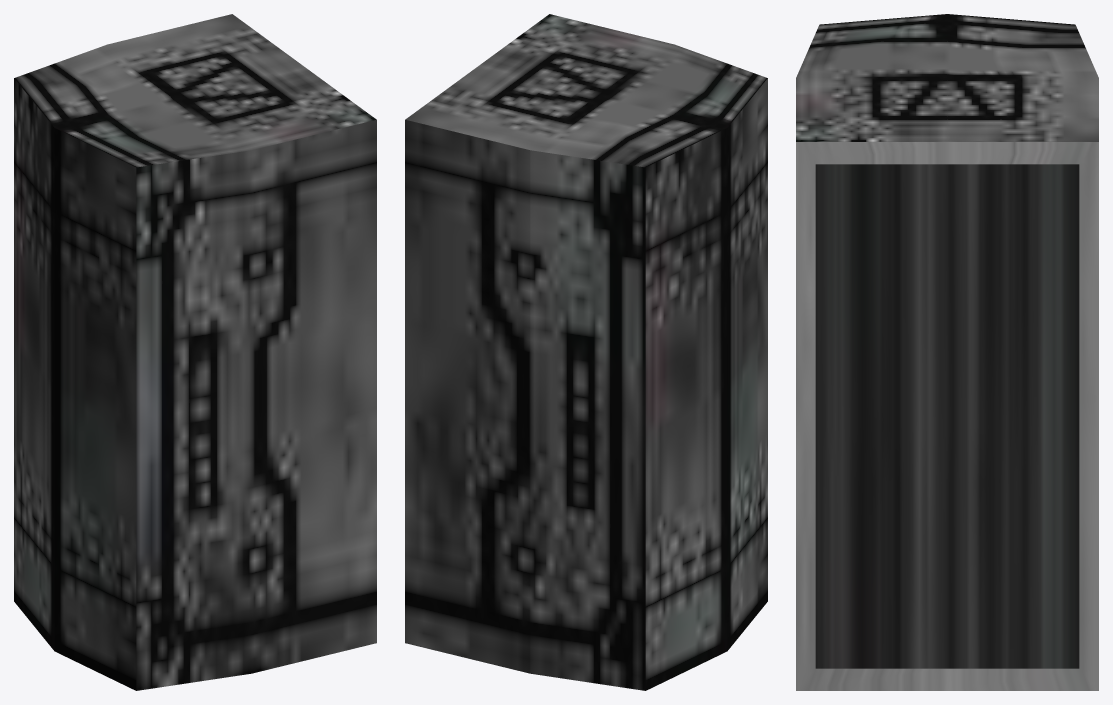
File: Armor.fbx
3 views of the same model, side by side, from view 1: azimuth 30°, elevation 25°; view 2: azimuth 150°, elevation 25°; view 3: azimuth 270°, elevation 25° (orthographic). The views are drawn at different scales.
Parts seen in each view (by area): view 1: Armor; view 2: Armor; view 3: Armor.
Part boxes in pixels (x1,y1,x2,y2): Armor: [14, 14, 376, 690]; Armor: [405, 14, 767, 690]; Armor: [796, 14, 1098, 690].
Size of the model in its own units: 50 by 100 by 50.
